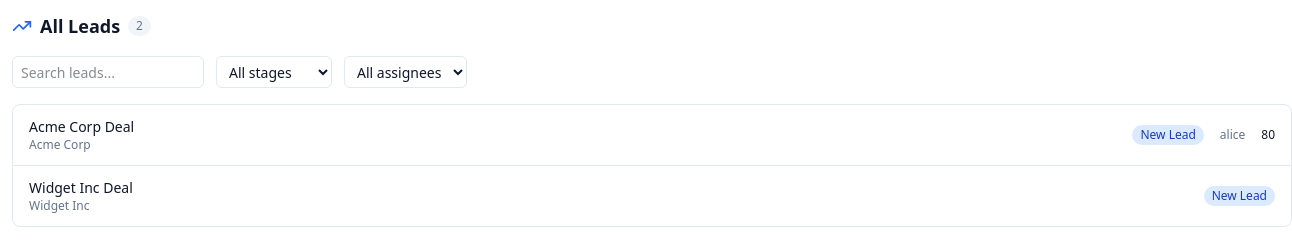
Test: LeadsManagementView › filters leads by search term matching title
expect the link with test id "lead-row-t1" is shown: met, box [13,105,1291,166]
Type "acme" into the search field with test id "leads-search-input" at point(108, 72), box [12,56,204,88]
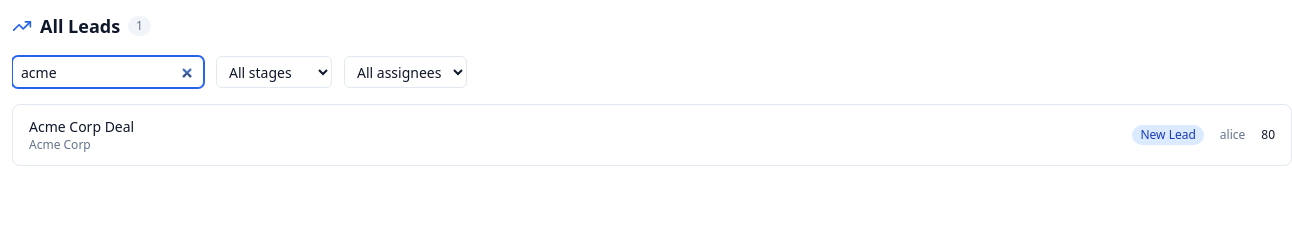
expect the link with test id "lead-row-t1" is shown: met, box [13,105,1291,165]
expect the link with test id "lead-row-t2" is gone: met
